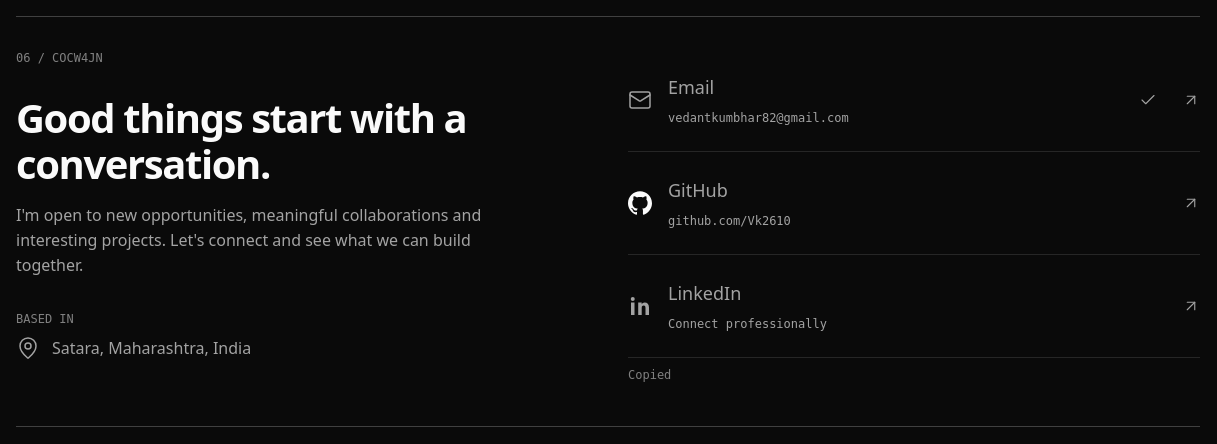
keeps copy separate from the contact links and reports clipboard results
Earlier steps of the test are not shown.
What coordinates should you click on to do the following:
click the button named "Email copied"
I would click on:
 (1148, 100)
Its box is [1126,78,1170,122].
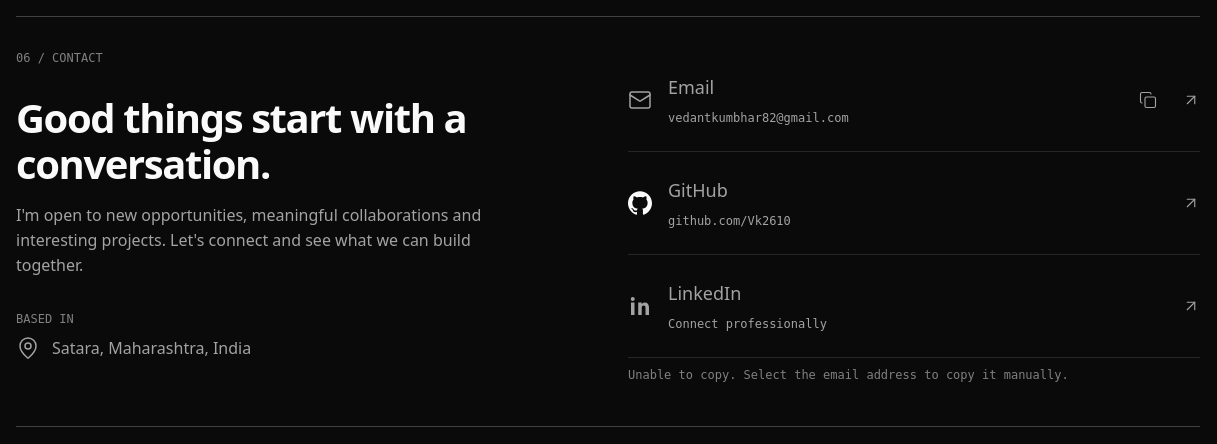
expect the text "Unable to copy. Select the email address to copy it manually." is shown: met, box [628,368,1069,382]
